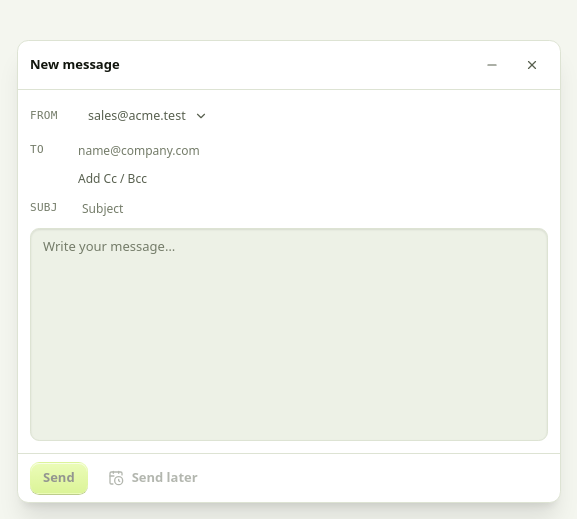
Scenario: a failed send keeps the window open with the text intact
Expected: the button "sales@acme.test" is shown, x1=78 y1=102 x2=218 y2=130
Type "ada@prospect.test," into the field labelled "To".
click(311, 150); type("ada@prospect.test,")  # box x1=74 y1=136 x2=548 y2=164
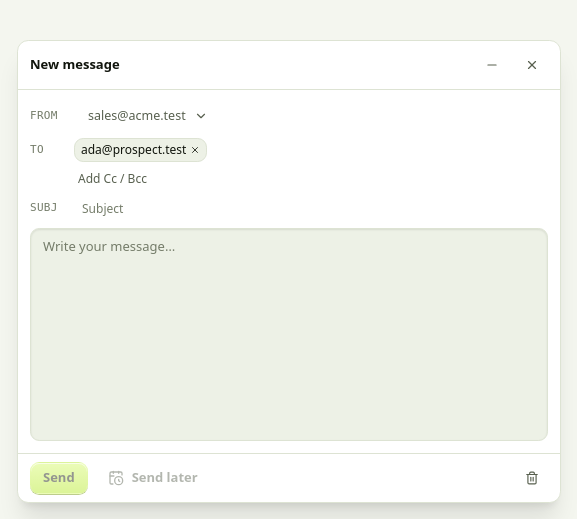
Type "Hello there" into the text box with placeholder "Write your message…".
click(289, 334); type("Hello there")  # box x1=30 y1=228 x2=548 y2=441
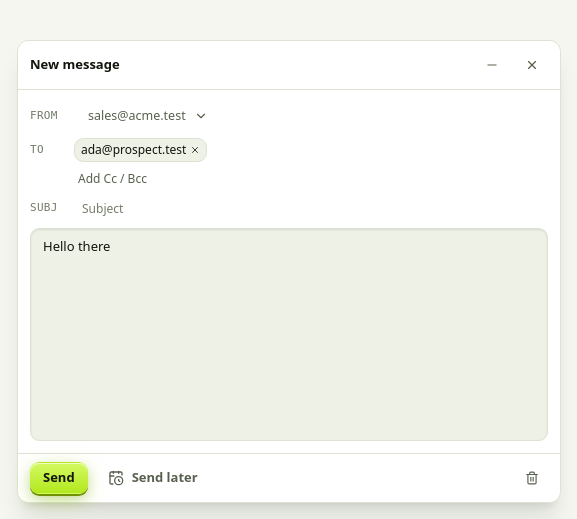
Click the button "Send".
click(59, 478)  # box x1=30 y1=462 x2=88 y2=494
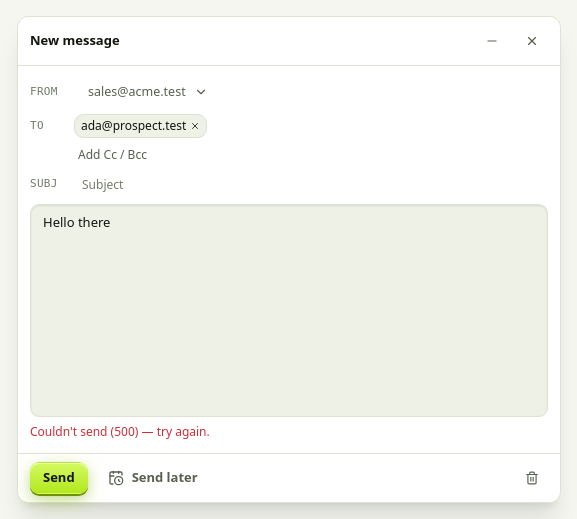
Result: the message shows "Couldn't send" at x1=30 y1=423 x2=210 y2=440
